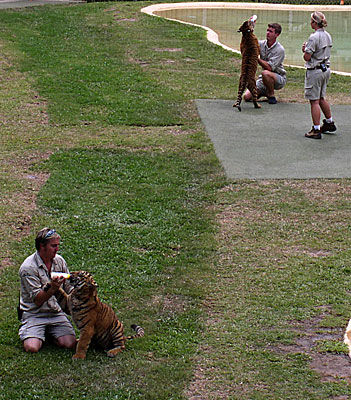person: (18, 227, 80, 354)
